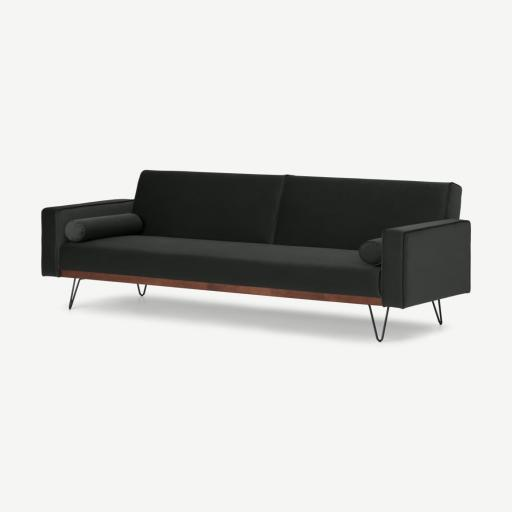back_cushion: (132, 171, 461, 250)
left_arm: (382, 219, 470, 308)
legs: (137, 278, 389, 342), (68, 277, 84, 310), (432, 300, 442, 325), (94, 274, 124, 282)
right_arm: (42, 199, 133, 277)
seat_cushion: (60, 235, 379, 297)
two-seater: (0, 0, 511, 512)
